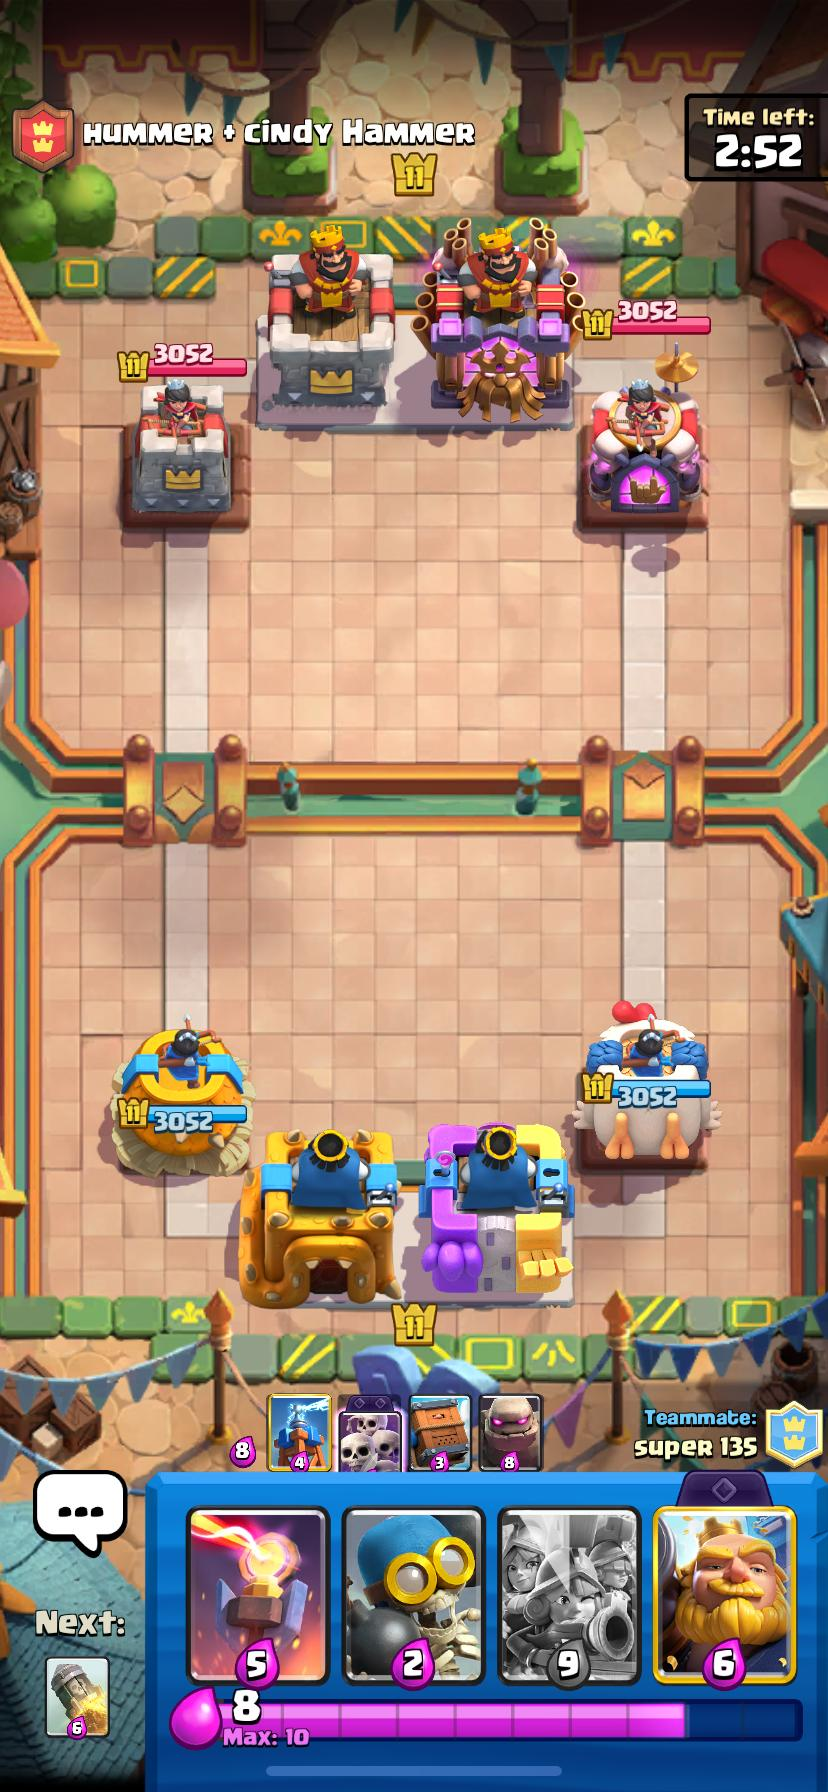EKingTower: (413, 219, 584, 421), (258, 223, 395, 413)
EnemyPrincessTower: (581, 379, 704, 525), (124, 378, 234, 523)
OwnKingTower: (240, 1129, 403, 1306), (419, 1123, 573, 1301)
OwnPrincessTower: (113, 1018, 253, 1175), (576, 1003, 710, 1166)
